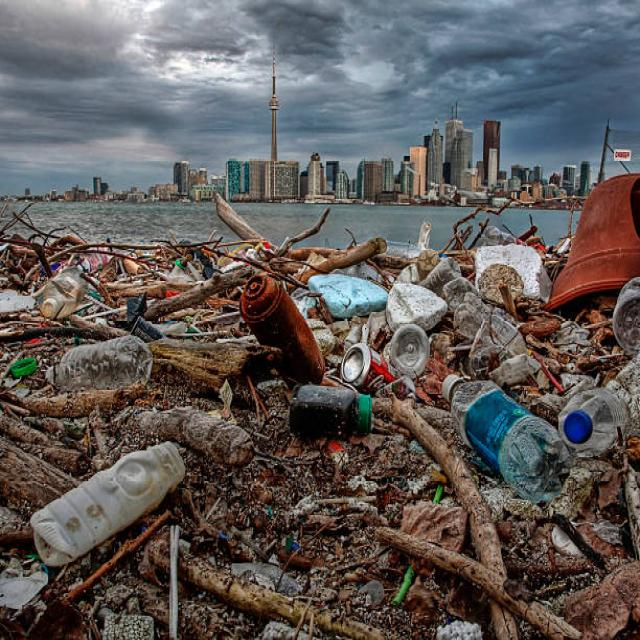metal: (335, 336, 390, 382)
plastic: (24, 433, 180, 557), (450, 378, 625, 474), (41, 334, 150, 388)
trash: (372, 180, 635, 340), (37, 253, 206, 332)
